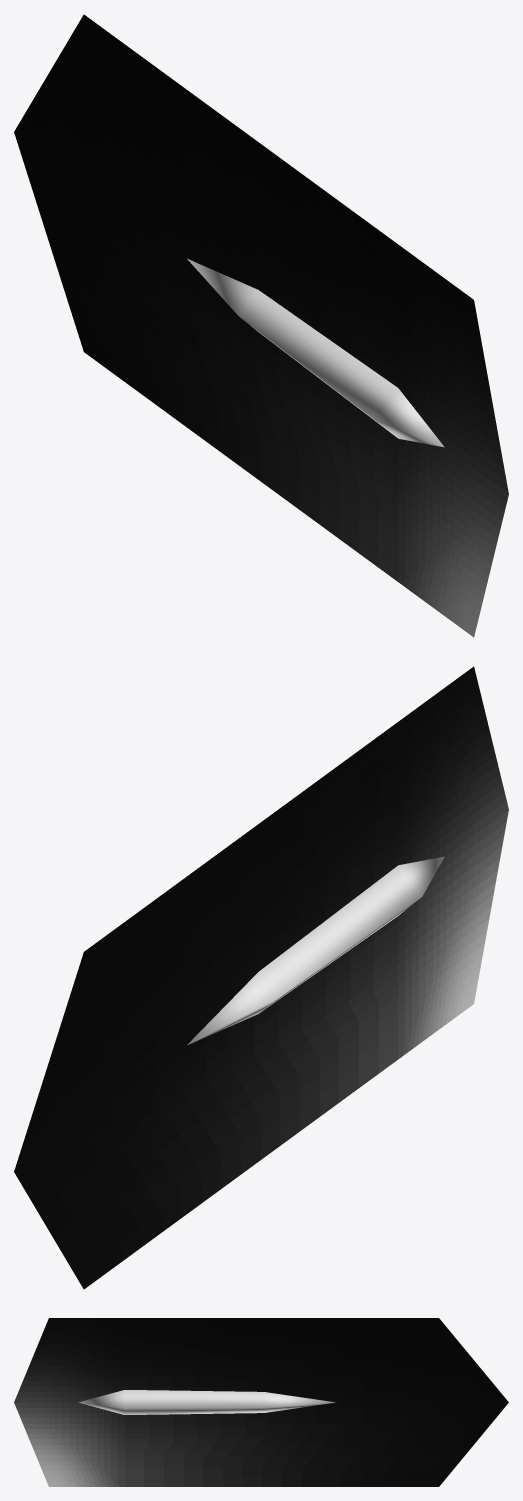
The model's file is EffFoxBlasterBullet.obj.
3 renders of one model, top to bottom at view 1: azimuth 30°, elevation 25°; view 2: azimuth 150°, elevation 25°; view 3: azimuth 270°, elevation 25°, orthographic. The views are drawn at different scales.
Visible parts, largest first — view 1: polygon2, polygon1; view 2: polygon2, polygon1; view 3: polygon2, polygon1.
Boxes of the visible parts, x1,y1,x2,y2 form: polygon2: [14, 14, 508, 637]; polygon1: [187, 258, 444, 447]; polygon2: [14, 666, 508, 1289]; polygon1: [187, 856, 444, 1045]; polygon2: [14, 1318, 508, 1486]; polygon1: [78, 1390, 336, 1414].
Bounding box in the file's own units: 1.2 × 8 × 21.25.
Materials: 3 (1 with a texture image).
